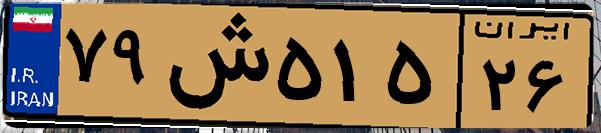1: (330, 28, 385, 110)
2: (475, 38, 525, 113)
5: (270, 28, 330, 110), (385, 28, 445, 110)
6: (525, 38, 570, 115)
7: (57, 26, 110, 100)
9: (110, 28, 158, 98)
ش: (158, 12, 270, 120)
